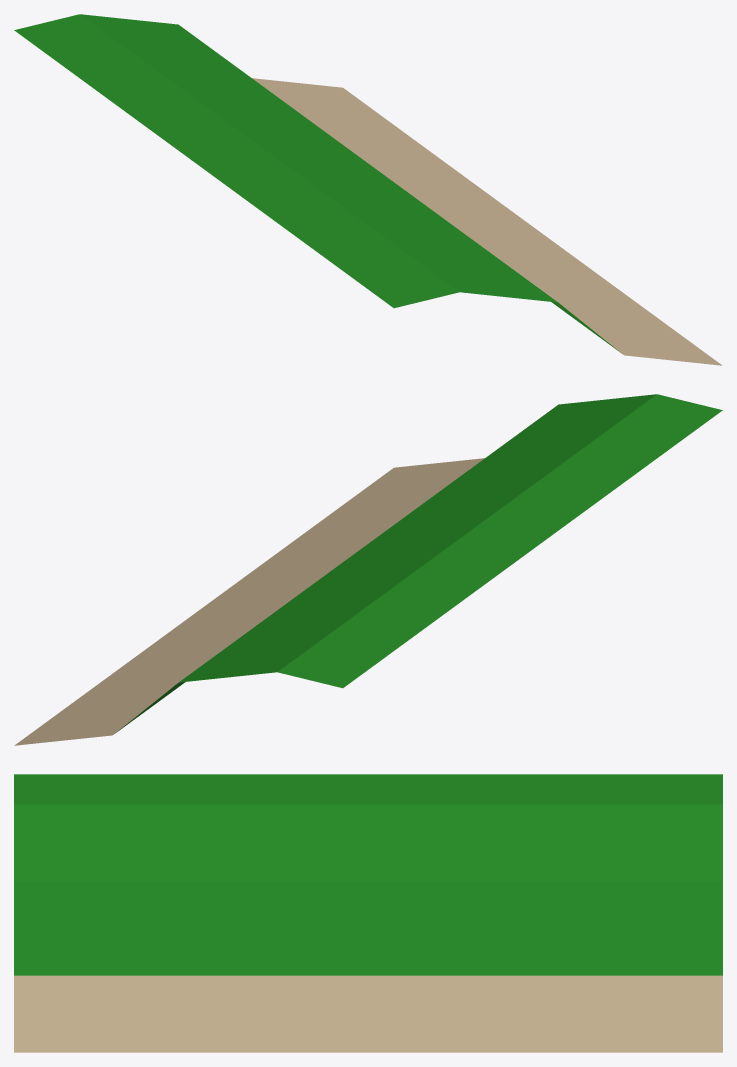
File: Hilly_Terrain_Path_Side.fbx
3 views of the same model, one above another, from view 1: azimuth 30°, elevation 25°; view 2: azimuth 150°, elevation 25°; view 3: azimuth 270°, elevation 25° (orthographic). The views are drawn at different scales.
Parts seen in each view (by area): view 1: object1; view 2: object1; view 3: object1.
Part boxes in pixels (x1,y1,x2,y2): object1: (14, 14, 722, 365); object1: (14, 394, 722, 745); object1: (14, 774, 722, 1052).
Size of the model in its own units: 0.5 by 0.2 by 1.
